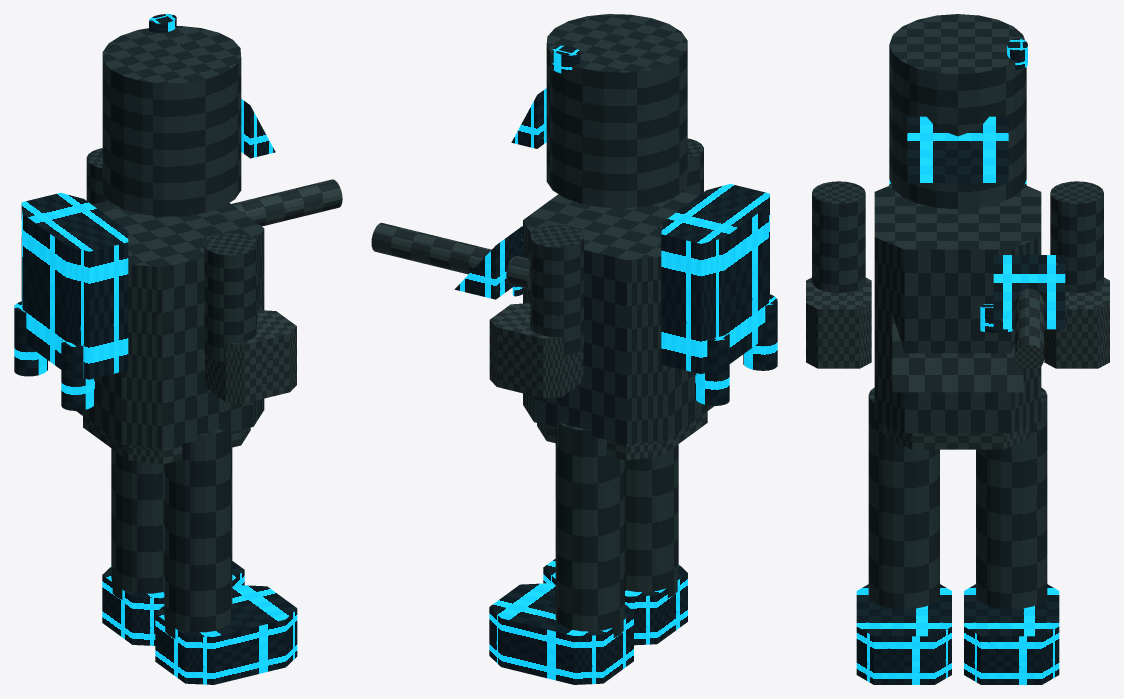
File: operator-premium-source-reference-lod0.glb
3 views of the same model, side by side, from view 1: azimuth 30°, elevation 25°; view 2: azimuth 150°, elevation 25°; view 3: azimuth 270°, elevation 25° (orthographic).
Visible parts, largest first — view 1: helmet-shell, torso-suit, backpack-core, leg-left-shell, boot-left, leg-right-shell, arm-left-upper, gauntlet-left, boot-right, source-reference-tool-barrel, thruster-left, hip-armor (+3 smaller); view 2: helmet-shell, torso-suit, backpack-core, leg-right-shell, boot-right, leg-left-shell, gauntlet-right, arm-right-upper, source-reference-tool-barrel, boot-left, source-reference-tool-guard, thruster-right (+5 smaller); view 3: torso-suit, helmet-shell, leg-left-shell, leg-right-shell, boot-left, boot-right, helmet-visor, arm-left-upper, chest-plate, arm-right-upper, gauntlet-left, source-reference-tool-guard (+5 smaller).
Part boxes in pixels (left/top/right/bottom): helmet-shell: left=102, top=26, right=241, bottom=216; torso-suit: left=76, top=200, right=264, bottom=448; backpack-core: left=21, top=192, right=128, bottom=379; leg-left-shell: left=164, top=427, right=232, bottom=638; boot-left: left=155, top=585, right=297, bottom=684; leg-right-shell: left=111, top=448, right=164, bottom=599; arm-left-upper: left=204, top=233, right=256, bottom=361; gauntlet-left: left=205, top=310, right=296, bottom=403; boot-right: left=102, top=561, right=244, bottom=645; source-reference-tool-barrel: left=231, top=179, right=342, bottom=226; thruster-left: left=61, top=339, right=94, bottom=410; hip-armor: left=83, top=416, right=250, bottom=464; helmet-shell: left=546, top=14, right=687, bottom=208; torso-suit: left=523, top=192, right=714, bottom=444; backpack-core: left=661, top=184, right=769, bottom=373; leg-right-shell: left=555, top=423, right=624, bottom=637; boot-right: left=489, top=583, right=633, bottom=684; leg-left-shell: left=625, top=444, right=678, bottom=598; gauntlet-right: left=489, top=303, right=583, bottom=398; arm-right-upper: left=530, top=225, right=583, bottom=355; source-reference-tool-barrel: left=371, top=222, right=530, bottom=289; boot-left: left=543, top=558, right=687, bottom=645; source-reference-tool-guard: left=454, top=226, right=522, bottom=299; thruster-right: left=695, top=333, right=729, bottom=405; torso-suit: left=874, top=185, right=1041, bottom=433; helmet-shell: left=889, top=14, right=1026, bottom=209; leg-left-shell: left=868, top=387, right=939, bottom=609; leg-right-shell: left=976, top=387, right=1047, bottom=609; boot-left: left=856, top=584, right=951, bottom=684; boot-right: left=964, top=584, right=1059, bottom=684; helmet-visor: left=907, top=116, right=1008, bottom=182; arm-left-upper: left=812, top=181, right=865, bottom=292; chest-plate: left=892, top=314, right=1023, bottom=392; arm-right-upper: left=1050, top=181, right=1103, bottom=292; gauntlet-left: left=806, top=277, right=871, bottom=368; source-reference-tool-guard: left=993, top=255, right=1065, bottom=329.
Bounding box in the file's own units: 1.3 × 2.25 × 1.02.
Materials: 3 (3 with a texture image).
